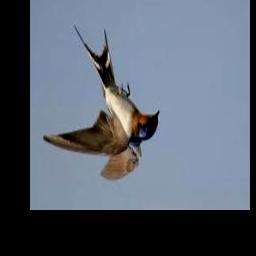Swallow: (42, 24, 159, 181)
